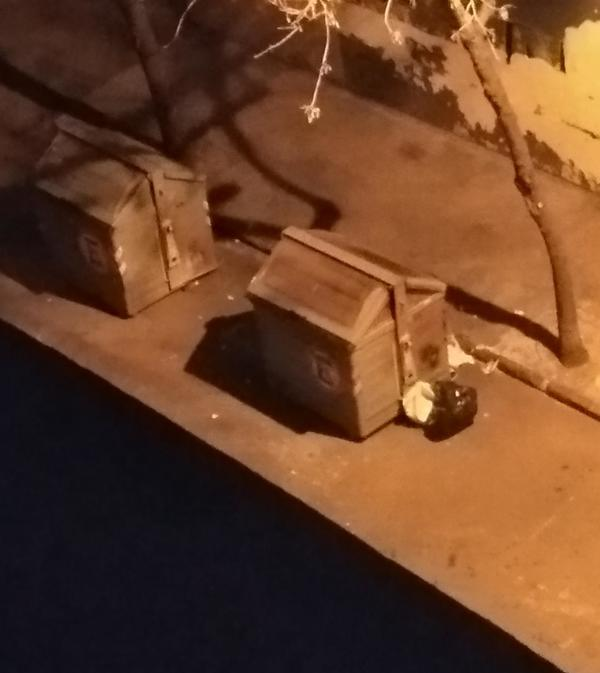Dechets: (403, 372, 477, 440), (447, 333, 474, 369)
Trash: (247, 227, 449, 438), (32, 114, 216, 315)
